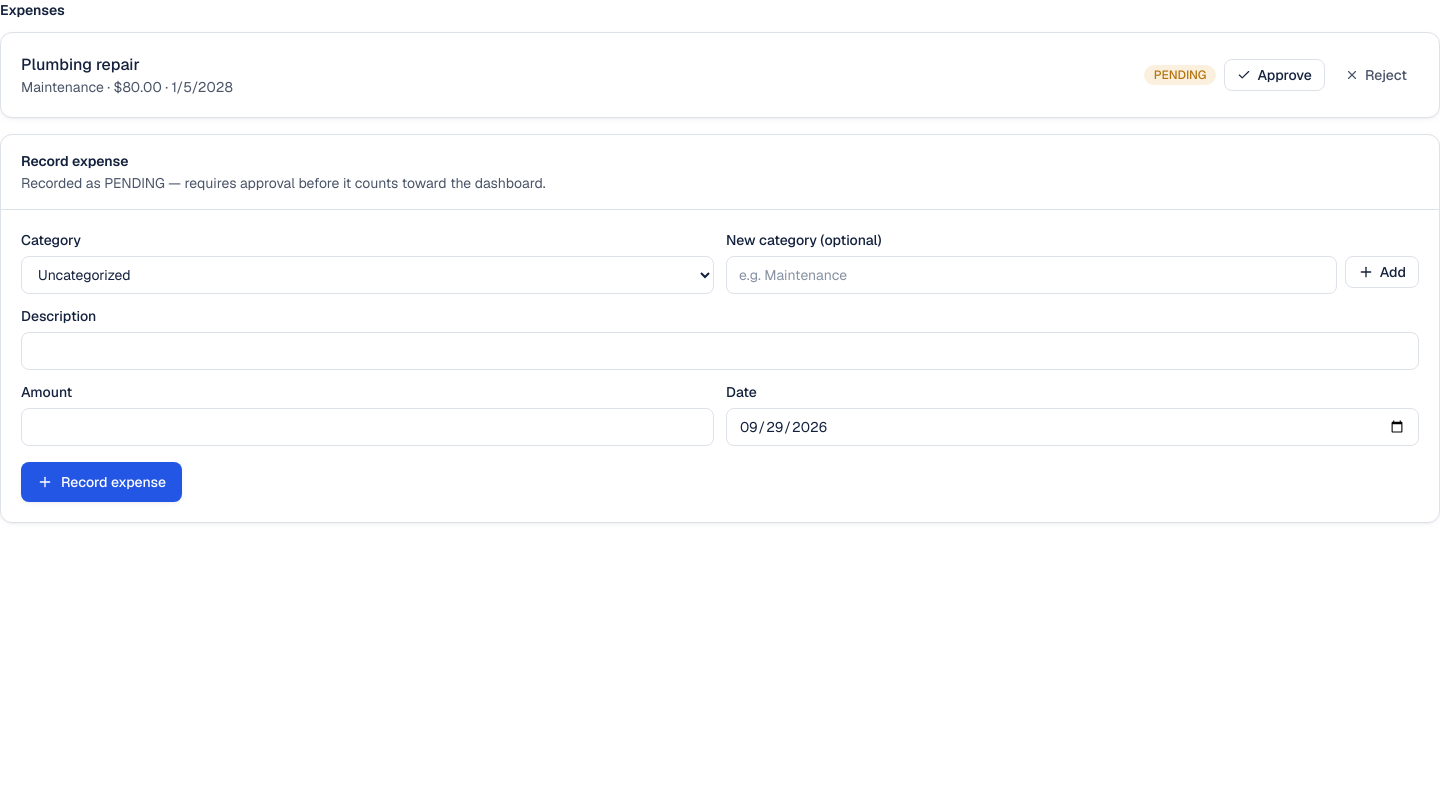
Scenario: ExpensesTab — approve/reject/mark-paid (mutations) › opens the reject dialog with the expense's own description in the title
Click the button "Reject". click: [1376, 75]
box: x1=1333 y1=59 x2=1419 y2=91
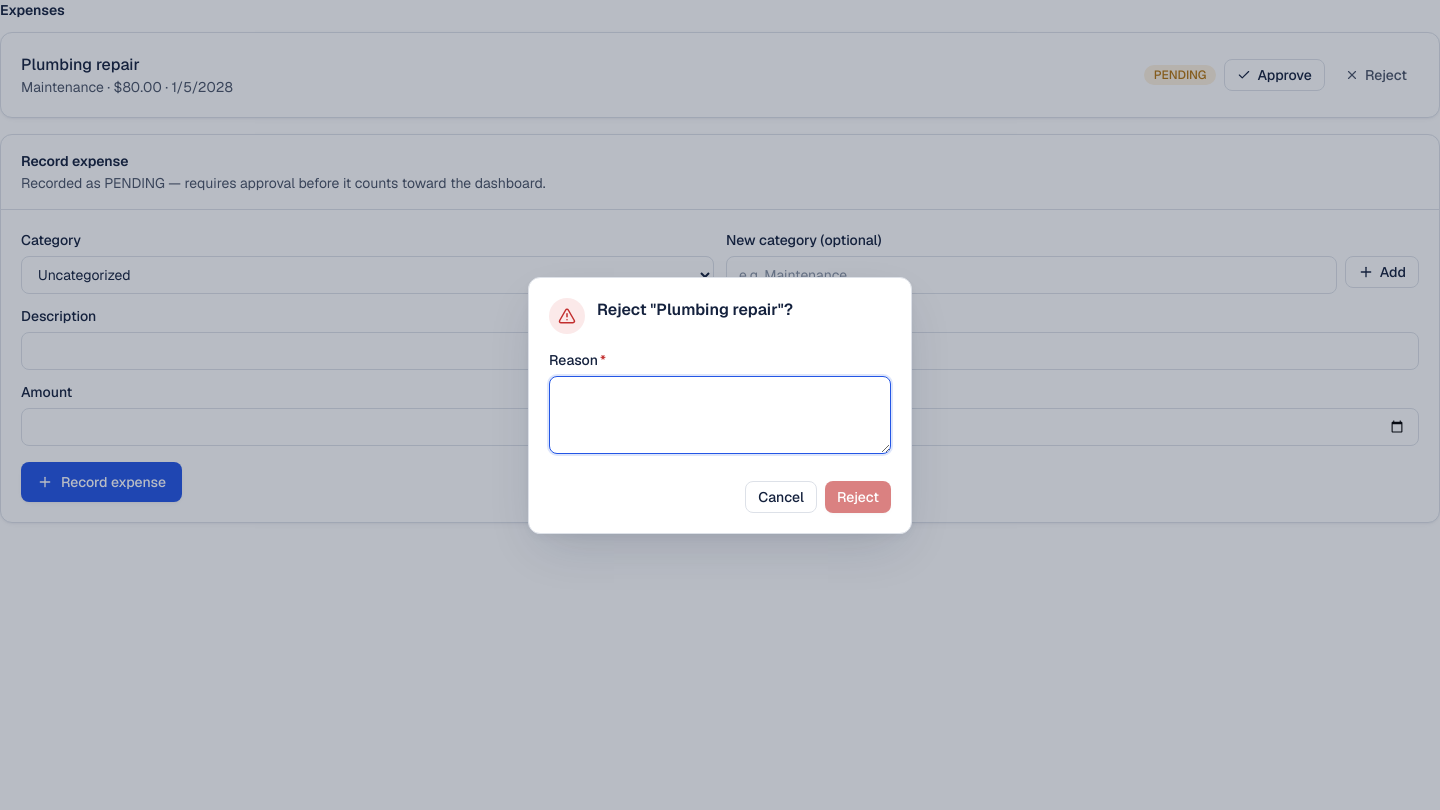
Expected: the dialog shows "Reject \"Plumbing repair\"?", x1=597 y1=298 x2=793 y2=320
